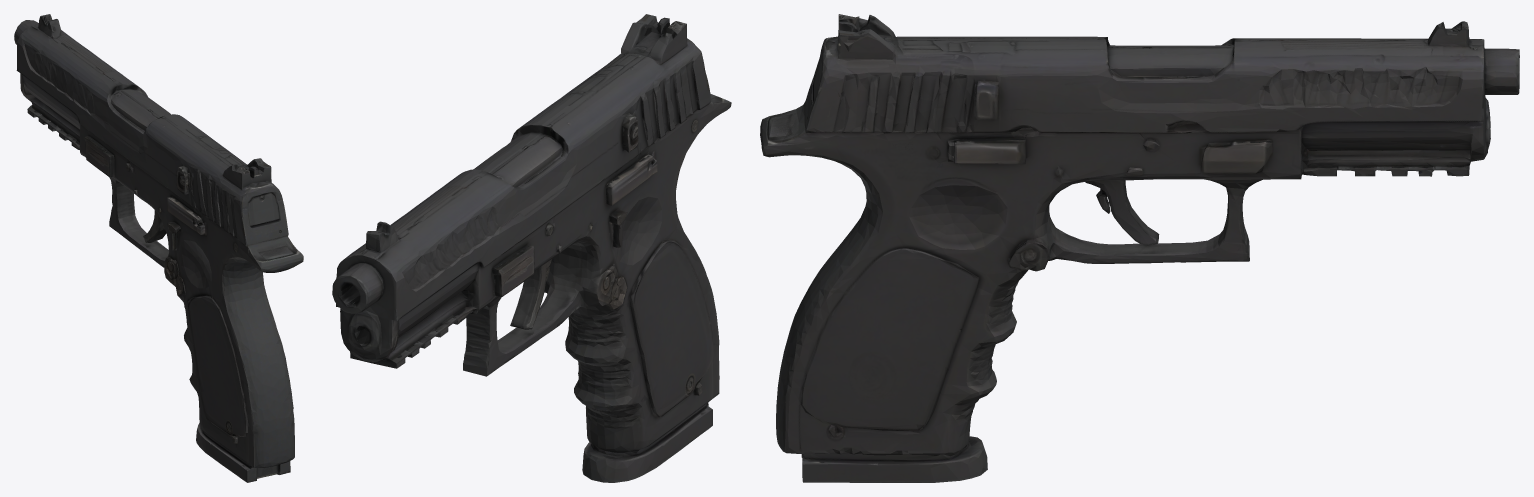
The picture shows the model from 3 angles, left to right: view 1: azimuth 30°, elevation 25°; view 2: azimuth 150°, elevation 25°; view 3: azimuth 270°, elevation 25°; orthographic projection. The views are drawn at different scales.
Visible parts, largest first — view 1: temp; view 2: temp; view 3: temp.
Part boxes in pixels (bbox=[...]): temp: bbox=[14, 14, 303, 482]; temp: bbox=[332, 14, 731, 482]; temp: bbox=[760, 14, 1519, 482].
Bounding box in the file's own units: 24.2 × 129 × 200.
Materials: 1 (1 with a texture image).
